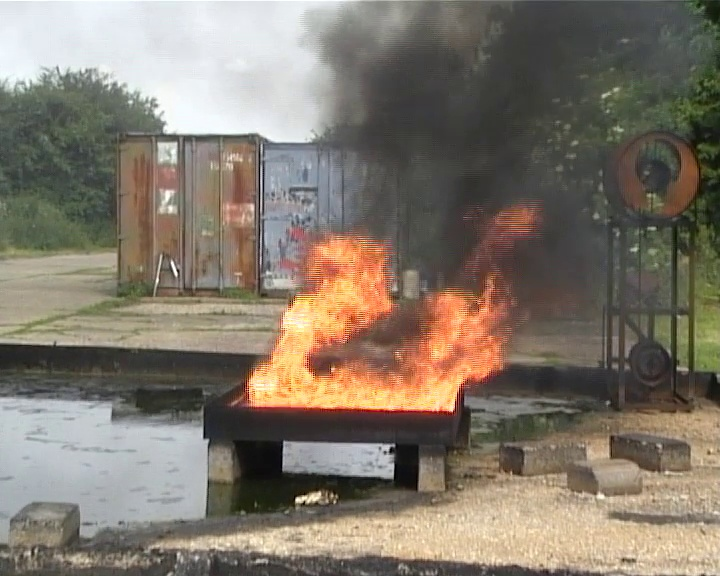fire: (245, 235, 509, 408)
